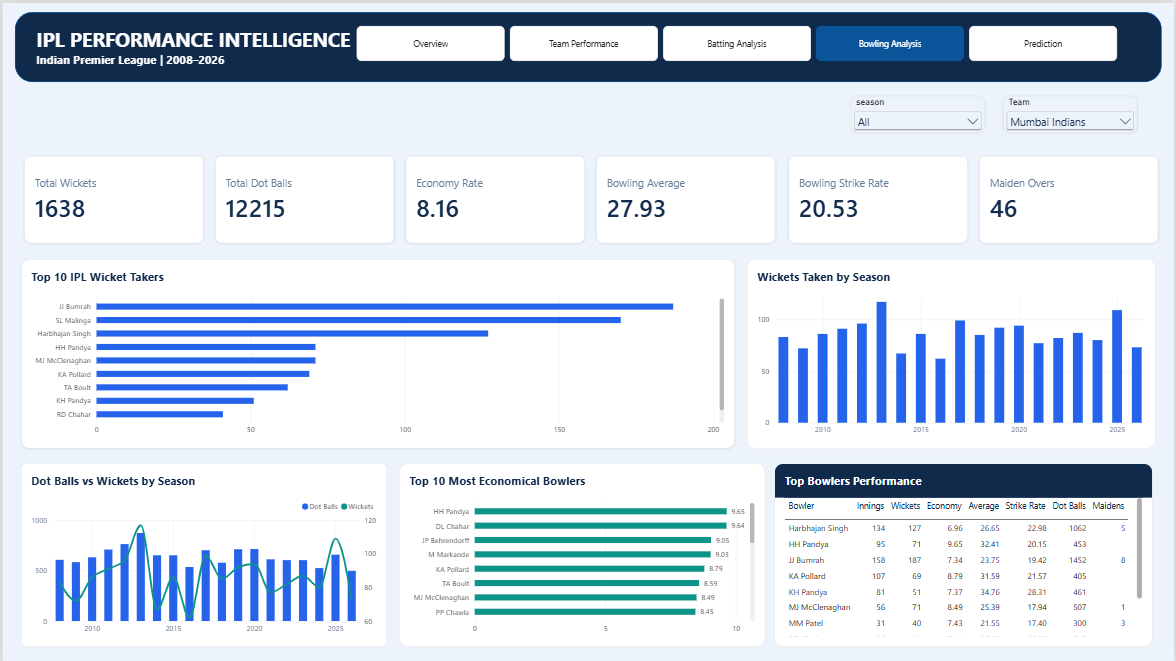

Layout of this report page (visuals, bound fields, positions):
{"tool":"powerbi","page":{"name":"Bowling Analysis","canvas":[1920,1080],"ordinal":3},"visuals":[{"type":"shape","box":[20,15,1880,115],"z":0},{"type":"textbox","box":[55,37,1834.4,93.3],"z":1000},{"type":"pageNavigator","box":[580,38,1250,58],"z":2000},{"type":"slicer","fields":{"Values":["ipl_matches.season"]},"box":[1390,153,220,60],"z":3000},{"type":"slicer","fields":{"Values":["Teams.Team"]},"box":[1640,153,220,60],"z":4000},{"type":"cardVisual","fields":{"Data":["ipl_ball_ball.Bowling_Maiden_Overs"]},"box":[1599.6,250.7,295,145],"z":5000},{"type":"cardVisual","fields":{"Data":["ipl_ball_ball.Bowling_Average"]},"box":[973.6,250.7,295,145],"z":6000},{"type":"cardVisual","fields":{"Data":["ipl_ball_ball.Bowling_Total_Wickets"]},"box":[34.6,250.7,295,145],"z":7000},{"type":"cardVisual","fields":{"Data":["ipl_ball_ball.Bowling_Economy_Rate"]},"box":[660.6,250.7,295,145],"z":8000},{"type":"cardVisual","fields":{"Data":["ipl_ball_ball.Bowling_Strike_Rate"]},"box":[1286.6,250.7,295,145],"z":9000},{"type":"cardVisual","fields":{"Data":["ipl_ball_ball.Bowling_Dot_Balls"]},"box":[347.6,250.7,295,145],"z":10000},{"type":"clusteredBarChart","title":"Top 10 IPL Wicket Takers","fields":{"Category":["ipl_ball_ball.bowler"],"Y":["ipl_ball_ball.Bowling_Total_Wickets"]},"box":[30,420,1170,310],"z":11000},{"type":"clusteredColumnChart","title":"Wickets Taken by Season","fields":{"Category":["ipl_matches.season"],"Y":["ipl_ball_ball.Bowling_Total_Wickets"]},"box":[1220,420,670,310],"z":12000},{"type":"lineClusteredColumnComboChart","title":"Dot Balls vs Wickets by Season","fields":{"Category":["ipl_matches.season"],"Y":["ipl_ball_ball.Bowling_Dot_Balls"],"Y2":["ipl_ball_ball.Bowling_Total_Wickets"]},"box":[30,755,600,300],"z":13000},{"type":"clusteredBarChart","title":"Top 10 Most Economical Bowlers","fields":{"Category":["ipl_ball_ball.bowler"],"Y":["ipl_ball_ball.Qualified_Bowling_Economy"]},"box":[650,755,600,300],"z":14000},{"type":"tableEx","title":"Top Bowlers Performance","fields":{"Values":["ipl_ball_ball.bowler","ipl_ball_ball.Bowling_Innings","ipl_ball_ball.Bowling_Total_Wickets","ipl_ball_ball.Bowling_Economy_Rate","ipl_ball_ball.Bowling_Average","ipl_ball_ball.Bowling_Strike_Rate","ipl_ball_ball.Bowling_Dot_Balls","ipl_ball_ball.Bowling_Maiden_Overs"]},"box":[1265,755,620,300],"z":15000}]}

Visuals, with their boxes in screenshot pixels (x1, y1, x2, y2), scaled from the page's 1920x1080 canvas onto the 1176x661 screenshot:
shape: [12, 9, 1164, 80]
textbox: [34, 23, 1157, 80]
pageNavigator: [355, 23, 1121, 59]
slicer - ipl_matches.season: [851, 94, 986, 130]
slicer - Teams.Team: [1005, 94, 1139, 130]
cardVisual - ipl_ball_ball.Bowling_Maiden_Overs: [980, 153, 1160, 242]
cardVisual - ipl_ball_ball.Bowling_Average: [596, 153, 777, 242]
cardVisual - ipl_ball_ball.Bowling_Total_Wickets: [21, 153, 202, 242]
cardVisual - ipl_ball_ball.Bowling_Economy_Rate: [405, 153, 585, 242]
cardVisual - ipl_ball_ball.Bowling_Strike_Rate: [788, 153, 969, 242]
cardVisual - ipl_ball_ball.Bowling_Dot_Balls: [213, 153, 394, 242]
"Top 10 IPL Wicket Takers" clusteredBarChart: [18, 257, 735, 447]
"Wickets Taken by Season" clusteredColumnChart: [747, 257, 1158, 447]
"Dot Balls vs Wickets by Season" lineClusteredColumnComboChart: [18, 462, 386, 646]
"Top 10 Most Economical Bowlers" clusteredBarChart: [398, 462, 766, 646]
"Top Bowlers Performance" tableEx: [775, 462, 1155, 646]
